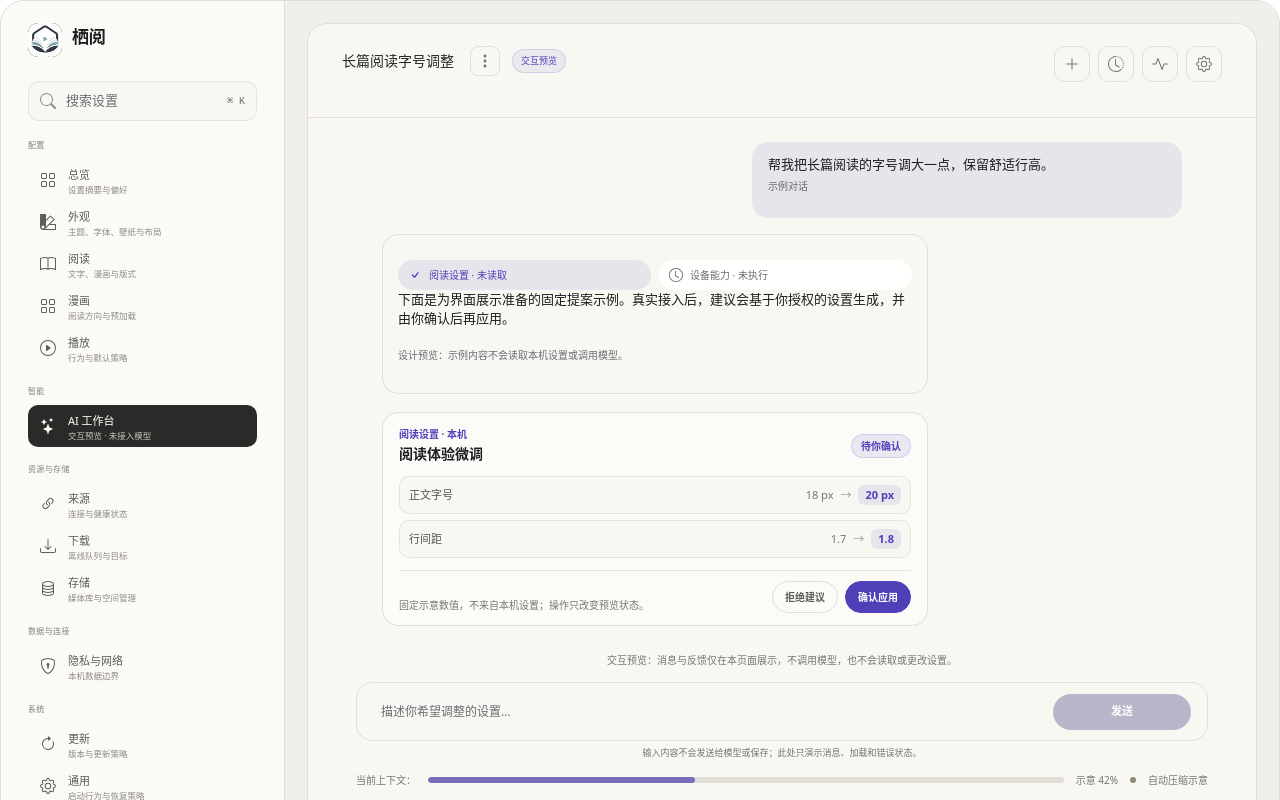
AIWorkbenchPreviewPage › shows fixed preview records without presenting them as real executions
Click the button named "执行记录". click: (1160, 64)
box: [1142, 46, 1178, 82]
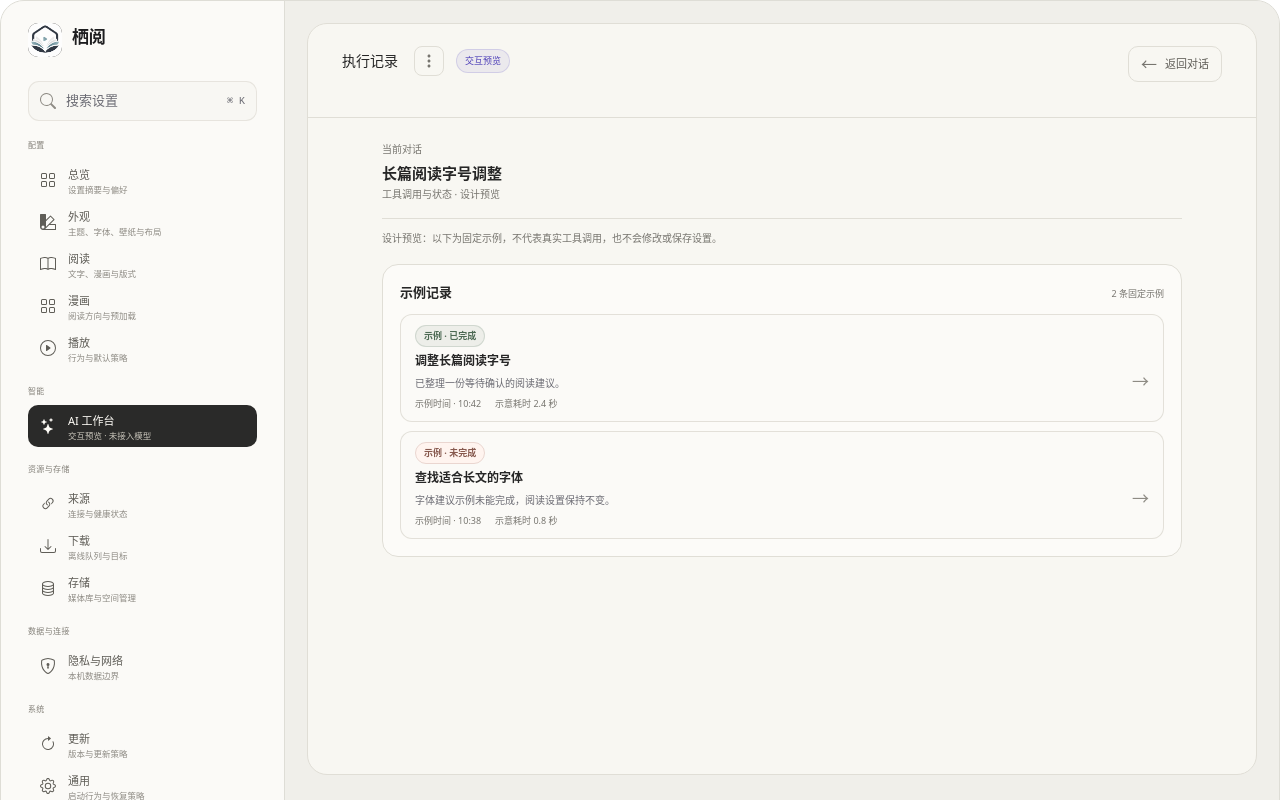
expect the heading "执行记录" is shown: met, box [342, 49, 398, 73]
expect the heading "长篇阅读字号调整" is shown: met, box [382, 163, 502, 183]
expect the text "设计预览：以下为固定示例，不代表真实工具调用，也不会修改或保存设置。" is shown: met, box [382, 231, 722, 245]
